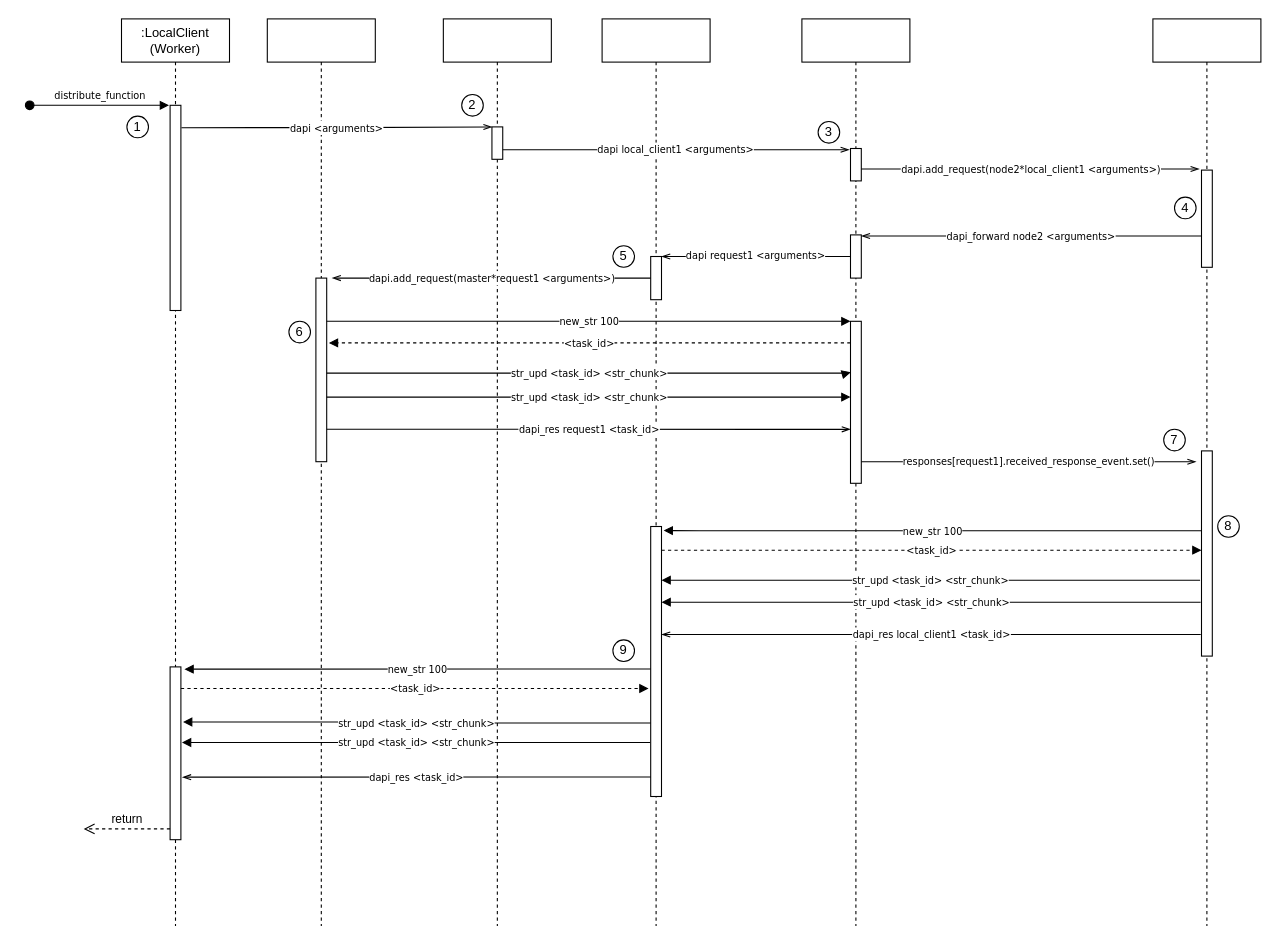
The diagram is 1280 pixels wide and 945 high, and some of its shapes have lost their labels. The shapes that lost their labels are listed below. From the top down, each one's box as (x1, y1, x2, y2) in pixels, then its label:
(266, 18, 375, 926): :DAPI (Worker)
(442, 18, 551, 926): :LocalServer (Worker)
(601, 18, 710, 926): :WorkerHandler
(801, 18, 910, 926): :MasterHandler
(1152, 18, 1261, 926): :DAPI (Master)
